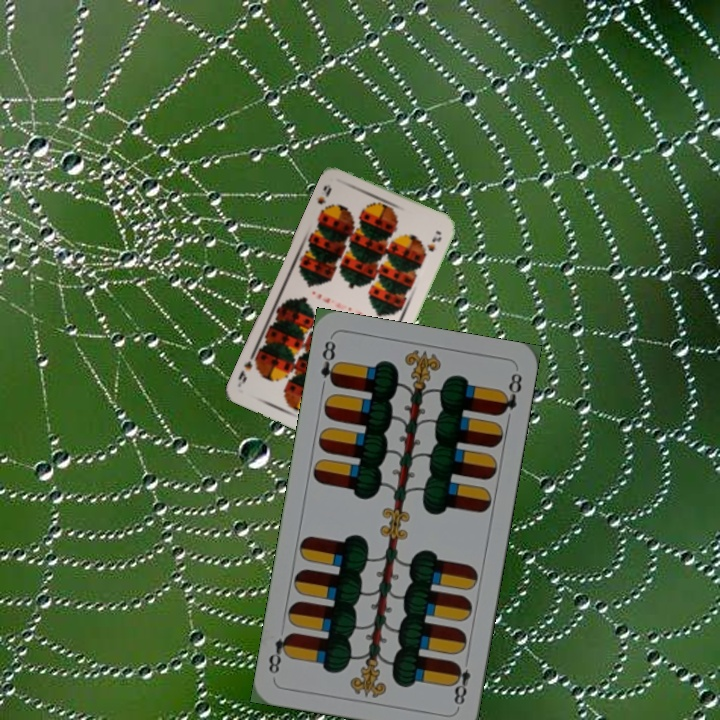E8: (316, 336, 342, 389), (448, 659, 473, 711)
S9: (313, 180, 334, 217)
